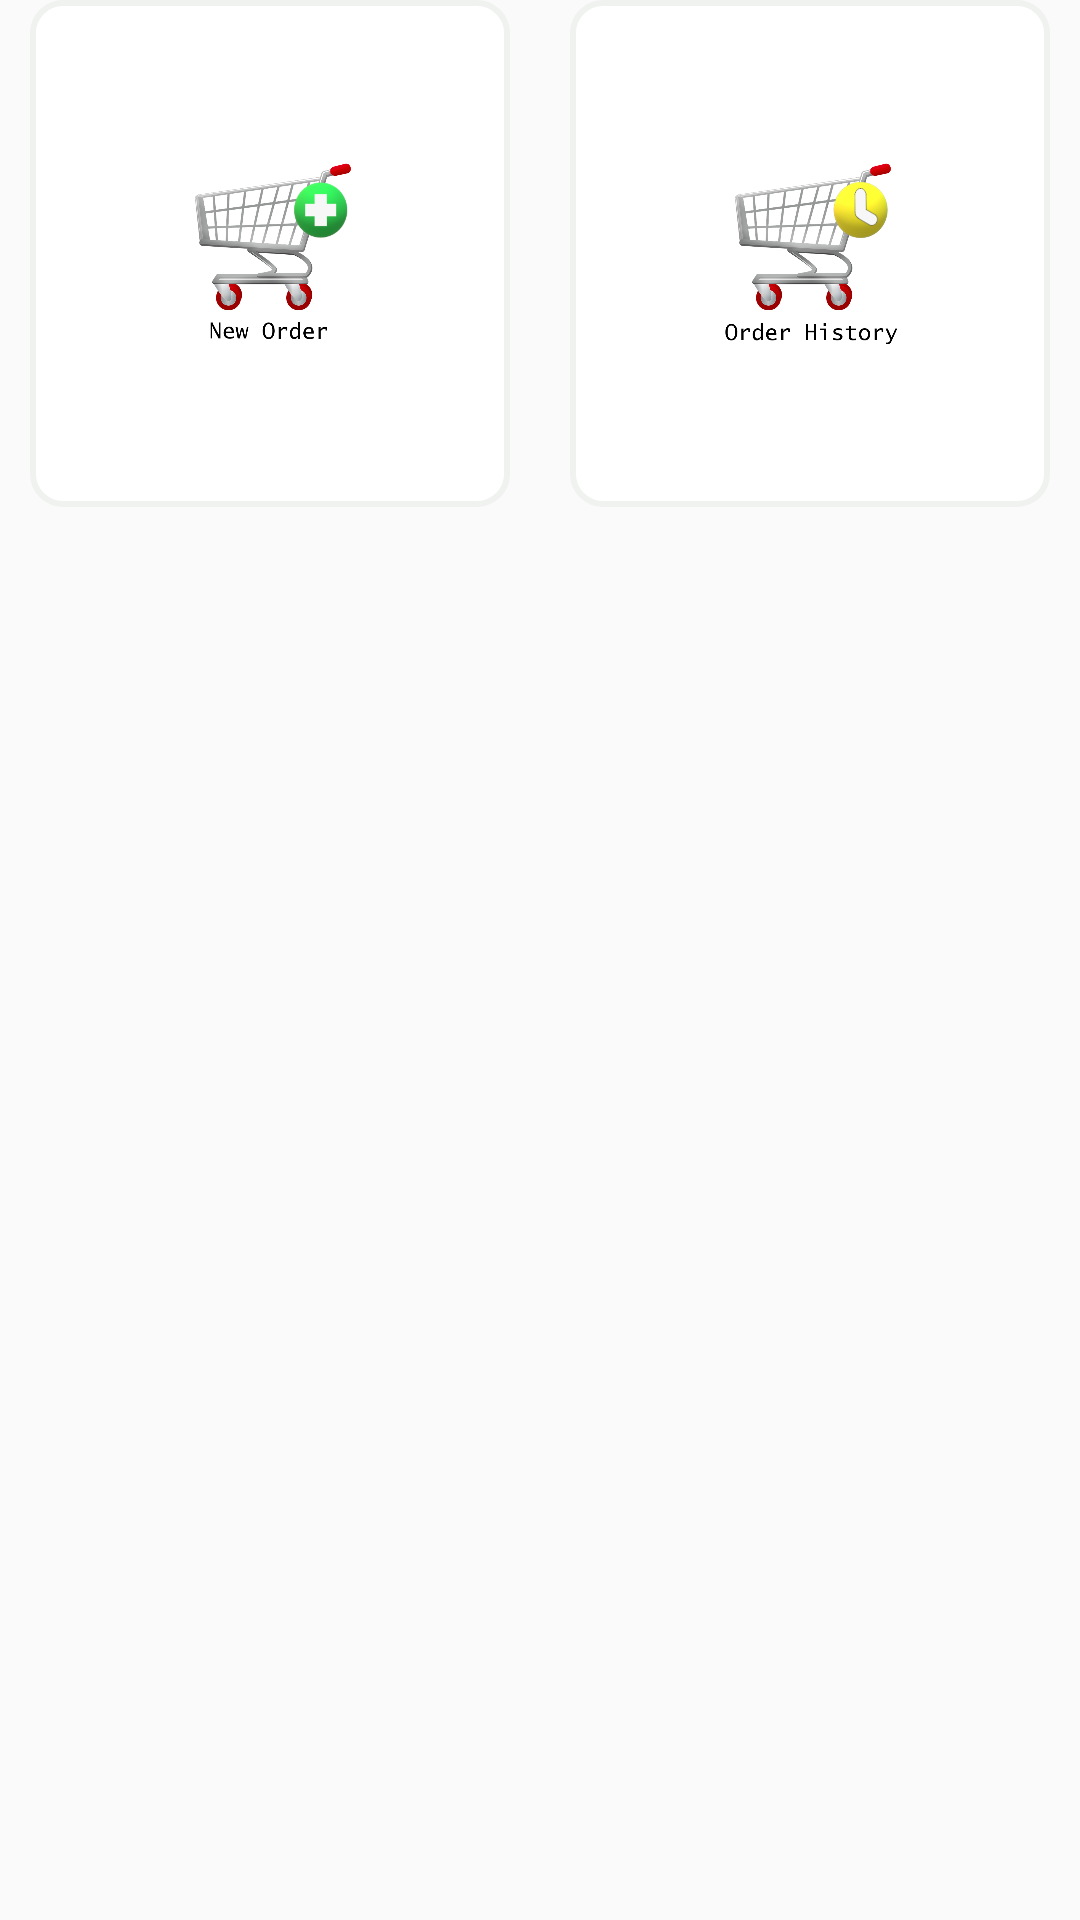

Icons on this 1080px x 1920px Android screen, each with the point to tap as (x=x, y=y):
Track Order: (x=811, y=253)
